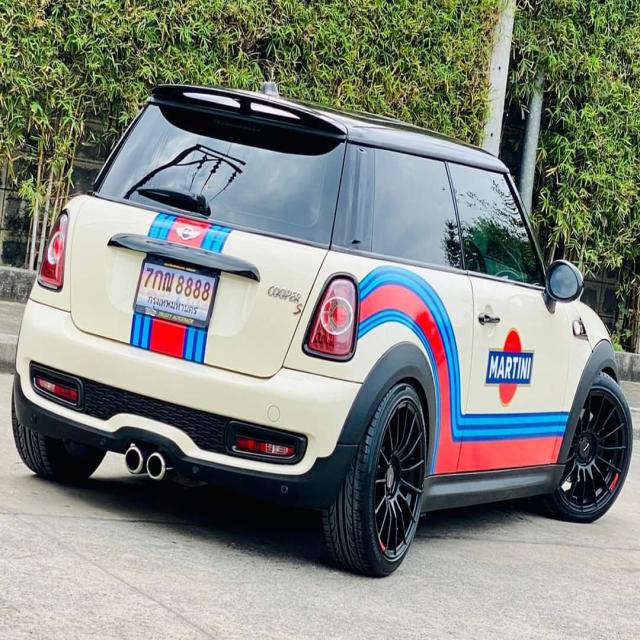license_plate: (133, 254, 218, 331)
